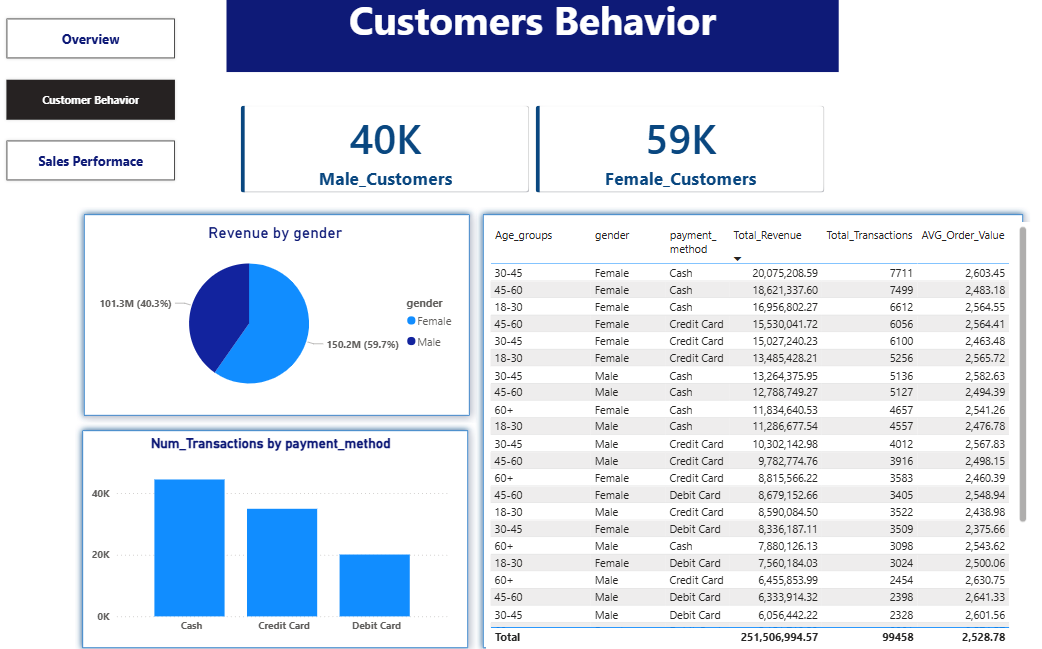

The page's visual inventory and layout, read from the dashboard file:
{"tool":"powerbi","page":{"name":"Customer Behavior","canvas":[1280,820],"ordinal":2},"visuals":[{"type":"shape","box":[92.2,534.8,492.4,285.8],"z":0},{"type":"shape","box":[94.1,269.2,492.4,265.6],"z":1000},{"type":"pieChart","title":"Revenue by gender","fields":{"Y":["_Measures.Total_Revenue"],"Category":["customer_data.gender"]},"box":[107,289.5,462.9,223.1],"z":2000},{"type":"columnChart","fields":{"Y":["_Measures.Num_Transactions"],"Category":["customer_data.payment_method"]},"box":[107,549.5,451.8,252.6],"z":3000},{"type":"shape","box":[584.6,269.2,682.3,551.4],"z":4000},{"type":"tableEx","fields":{"Values":["customer_data.Age_groups","customer_data.gender","customer_data.payment_method","_Measures.Total_Revenue","_Measures.Total_Transactions","_Measures.AVG_Order_Value"]},"box":[597.5,287.7,669.4,523.7],"z":5000},{"type":"cardVisual","fields":{"Data":["_Measures.Male_Customers","_Measures.Female_Customers"]},"box":[278.5,127.2,752.4,142],"z":6000},{"type":"textbox","box":[278.5,0,752.4,103.3],"z":7000},{"type":"bookmarkNavigator","box":[0,29.5,223.1,217.6],"z":7001}]}

Visuals, with their boxes in screenshot pixels (x1, y1, x2, y2), scaled from the page's 1280x820 canvas onto the 1042x649 screenshot:
shape: rect(75, 423, 476, 648)
shape: rect(77, 213, 477, 423)
"Revenue by gender" pieChart: rect(87, 229, 464, 406)
columnChart - _Measures.Num_Transactions x customer_data.payment_method: rect(87, 435, 455, 635)
shape: rect(476, 213, 1031, 648)
tableEx - customer_data.Age_groups x customer_data.gender: rect(486, 228, 1031, 642)
cardVisual - _Measures.Male_Customers x _Measures.Female_Customers: rect(227, 101, 839, 213)
textbox: rect(227, 0, 839, 82)
bookmarkNavigator: rect(0, 23, 182, 196)
